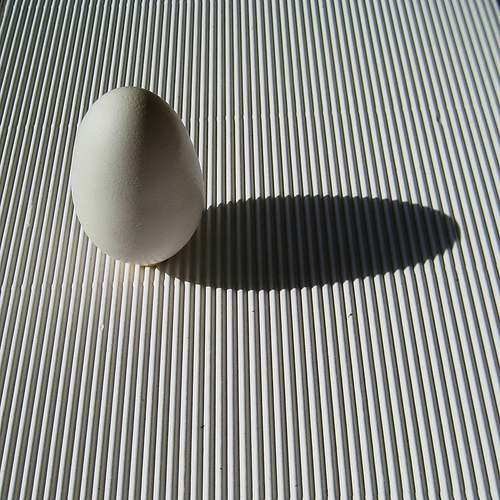egg: (55, 82, 223, 280)
